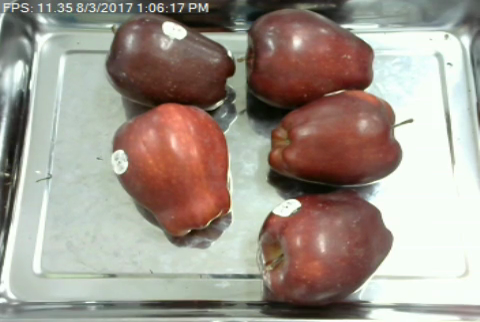Apple: (109, 99, 234, 243), (253, 186, 395, 306), (261, 86, 415, 186), (241, 6, 379, 108), (104, 11, 237, 113)
